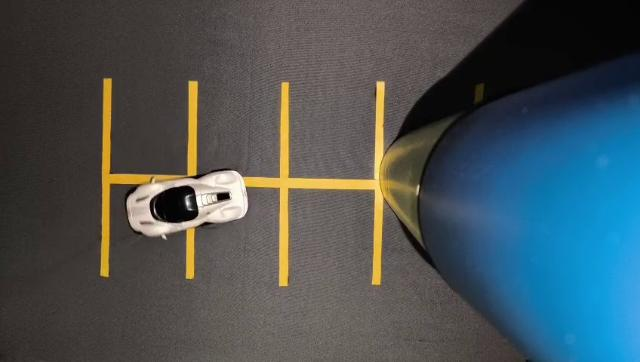toy_car: (114, 144, 266, 246)
